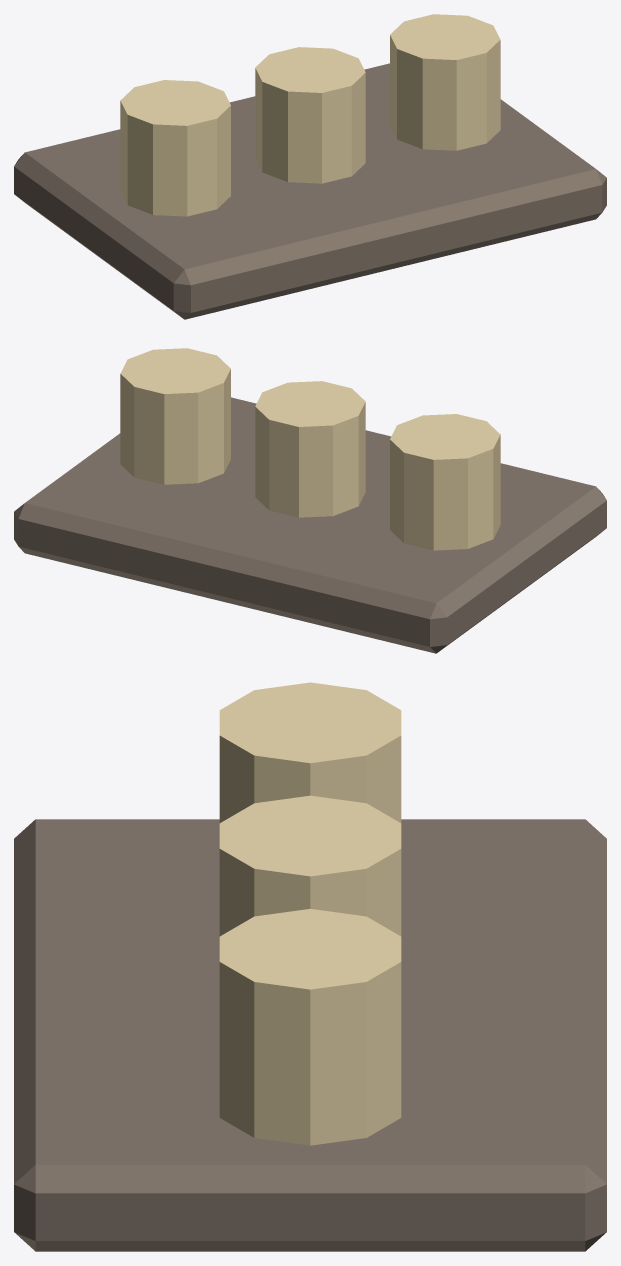
The model's file is residential_accessories_07.glb.
The picture shows the model from 3 angles, top to bottom: view 1: azimuth 30°, elevation 25°; view 2: azimuth 150°, elevation 25°; view 3: azimuth 270°, elevation 25°; orthographic projection. The views are drawn at different scales.
Parts seen in each view (by area): view 1: Cloth, Roll_001, Roll_002, Roll; view 2: Cloth, Roll_001, Roll_002, Roll; view 3: Cloth, Roll_002, Roll, Roll_001.
Part boxes in pixels (x1=…): Cloth: x1=14, y1=63, x2=606, y2=319; Roll_001: x1=255, y1=47, x2=365, y2=183; Roll_002: x1=390, y1=14, x2=500, y2=150; Roll: x1=120, y1=80, x2=230, y2=216; Cloth: x1=14, y1=397, x2=606, y2=653; Roll_001: x1=255, y1=381, x2=365, y2=517; Roll_002: x1=120, y1=348, x2=230, y2=484; Roll: x1=390, y1=414, x2=500, y2=550; Cloth: x1=14, y1=819, x2=606, y2=1251; Roll_002: x1=219, y1=909, x2=401, y2=1145; Roll: x1=219, y1=682, x2=401, y2=822; Roll_001: x1=219, y1=795, x2=401, y2=936.
Size of the model in its own units: 0.45 by 0.14 by 0.31.
